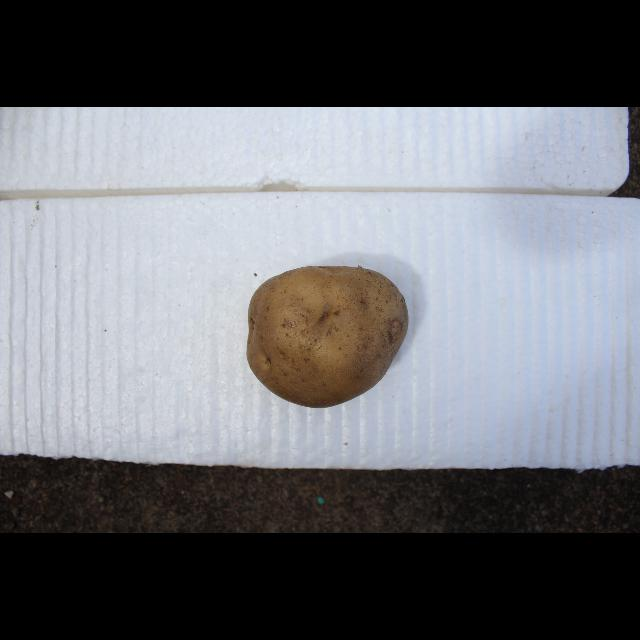Diseased-fungal potato: (230, 224, 400, 384)
